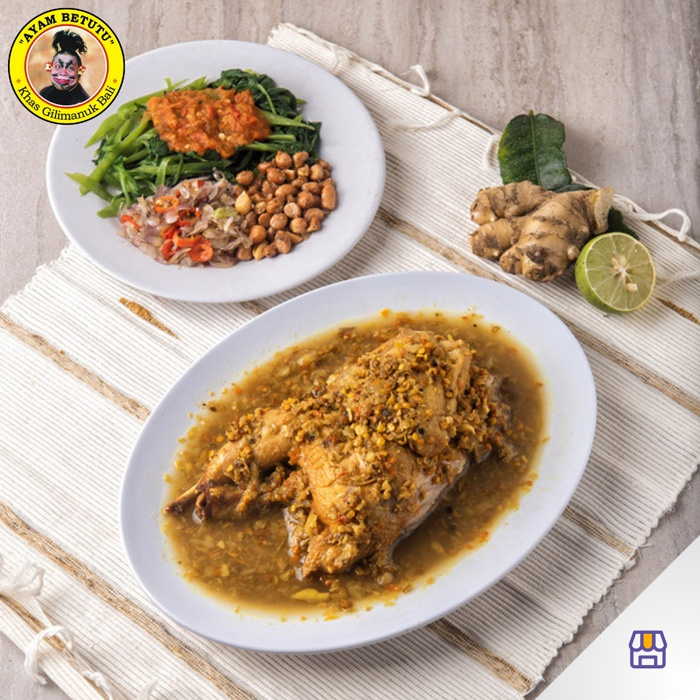ayam_betutu: (163, 331, 509, 578)
